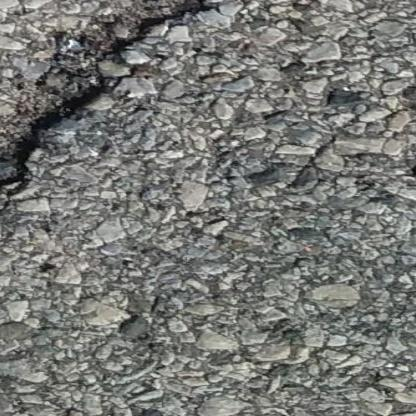Cracks: (0, 0, 209, 223)
